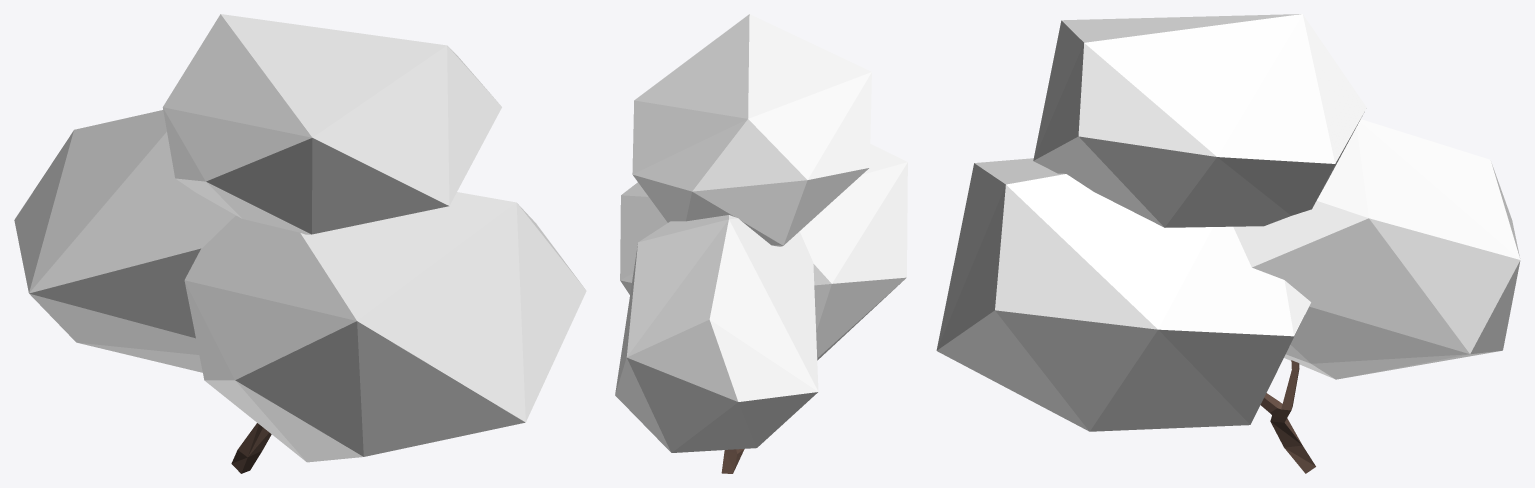
Rendered from Kustik_pink1.fbx.
3 views of the same model, side by side, from view 1: azimuth 30°, elevation 25°; view 2: azimuth 150°, elevation 25°; view 3: azimuth 270°, elevation 25° (orthographic). The views are drawn at different scales.
Visible parts, largest first — view 1: Kustik_pink1; view 2: Kustik_pink1; view 3: Kustik_pink1.
Part boxes in pixels (x1,y1,x2,y2): Kustik_pink1: (14,14,586,473); Kustik_pink1: (615,14,907,473); Kustik_pink1: (936,14,1520,473).
Size of the model in its own units: 115 by 142 by 160.
